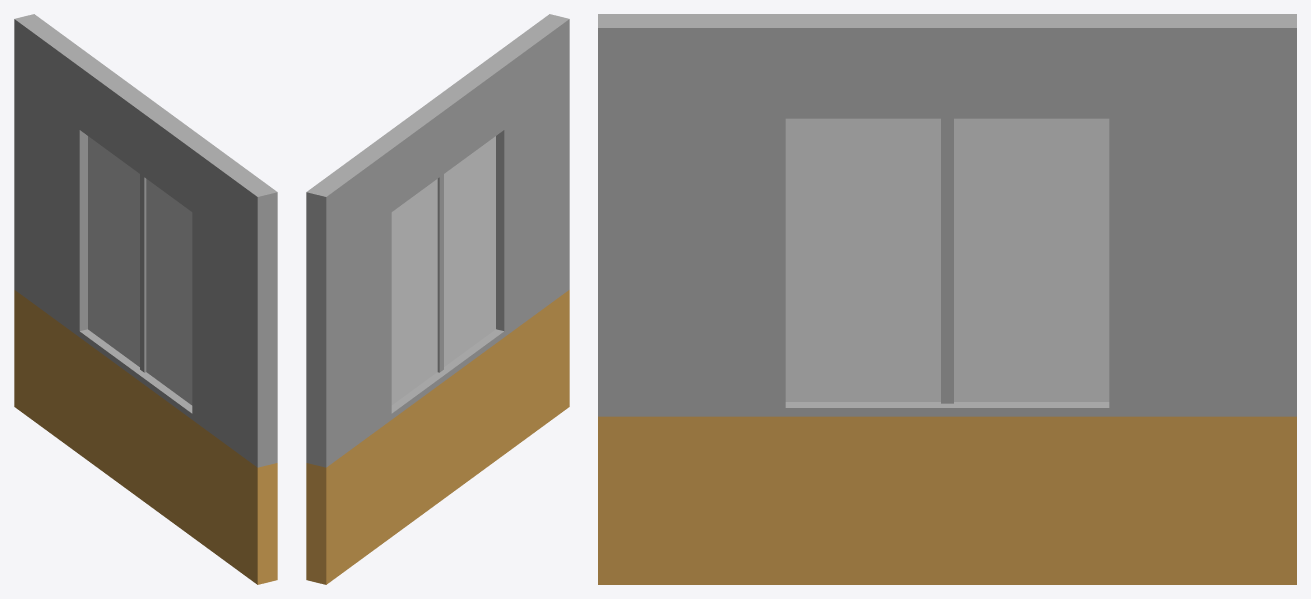
Rendered from Wall_WithWindow.fbx.
The picture shows the model from 3 angles, left to right: view 1: azimuth 30°, elevation 25°; view 2: azimuth 150°, elevation 25°; view 3: azimuth 270°, elevation 25°; orthographic projection. The views are drawn at different scales.
Visible parts, largest first — view 1: Wall_WithWindow; view 2: Wall_WithWindow; view 3: Wall_WithWindow.
Boxes of the visible parts, box(x1,y1,x2,y2) form: Wall_WithWindow: box(14, 14, 277, 584); Wall_WithWindow: box(306, 14, 569, 584); Wall_WithWindow: box(598, 14, 1296, 584).
Bounding box in the file's own units: 38.02 × 703 × 800.
